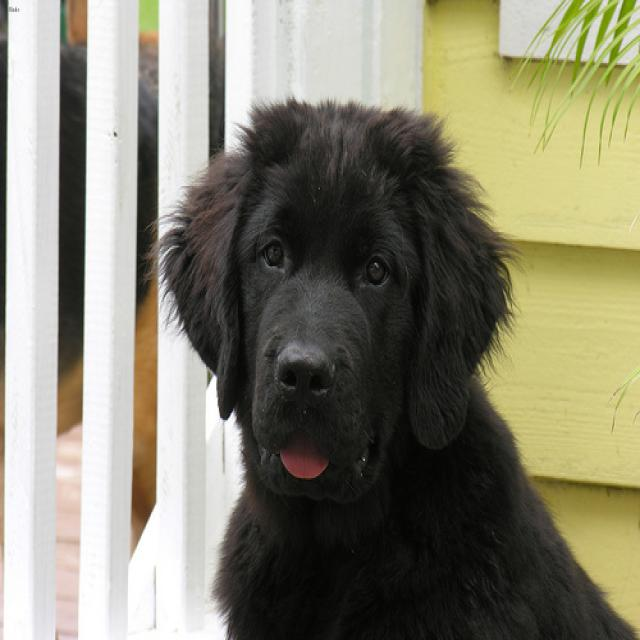dog-newfoundland: (140, 87, 637, 637)
